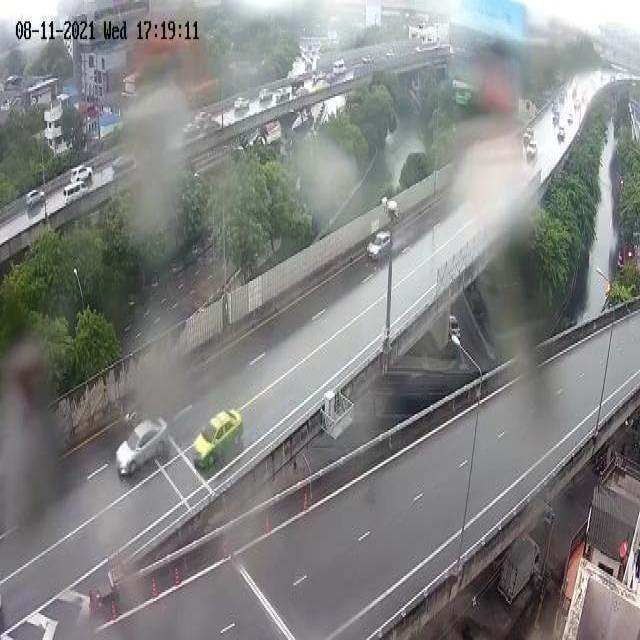Car: (186, 403, 258, 479), (104, 412, 169, 488), (362, 224, 398, 271), (110, 149, 141, 180), (448, 300, 462, 364), (66, 160, 98, 186), (22, 180, 49, 210), (526, 127, 542, 167), (60, 184, 88, 206), (176, 118, 201, 140), (546, 102, 564, 132), (330, 54, 348, 82), (231, 91, 250, 117), (520, 123, 534, 154), (288, 70, 312, 86), (277, 83, 291, 106), (556, 115, 567, 142), (259, 83, 274, 102), (566, 108, 576, 133)
